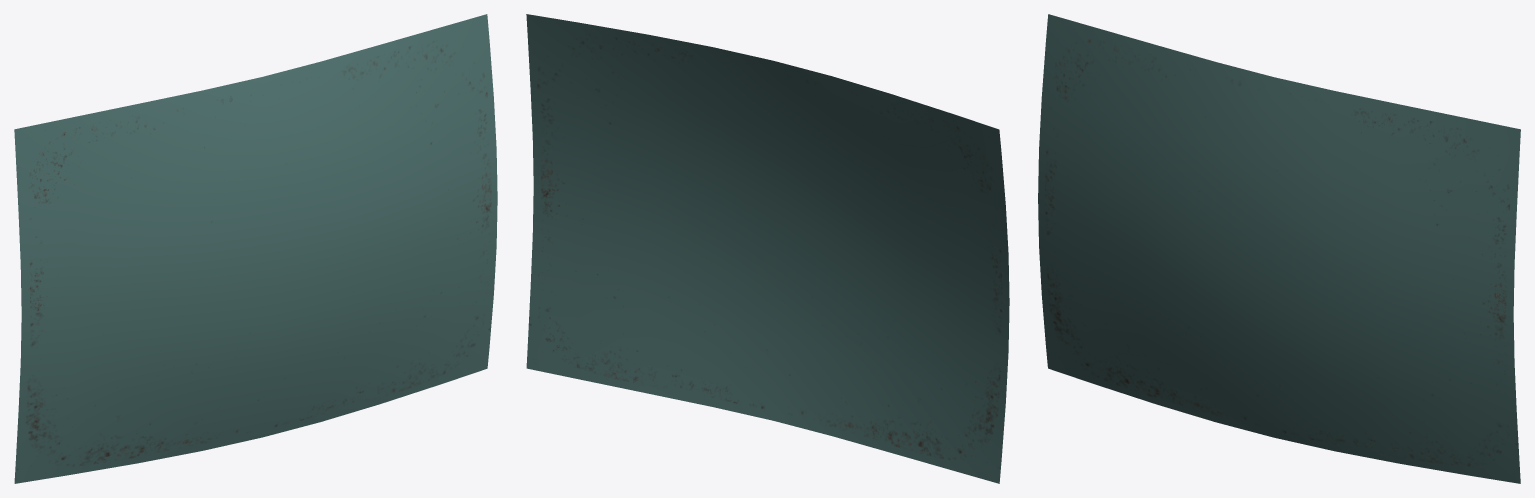
Rendered from tvCenterTestFront.glb.
3 views of the same model, side by side, from view 1: azimuth 30°, elevation 25°; view 2: azimuth 150°, elevation 25°; view 3: azimuth 330°, elevation 25° (orthographic).
Visible parts, largest first — view 1: Screen; view 2: Screen; view 3: Screen.
Boxes of the visible parts, <box> form: Screen: <box>14,14,497,483</box>; Screen: <box>526,14,1009,483</box>; Screen: <box>1038,14,1520,483</box>.
Bounding box in the file's own units: 2.28 × 1.65 × 0.2229.
Materials: 1 (1 with a texture image).
